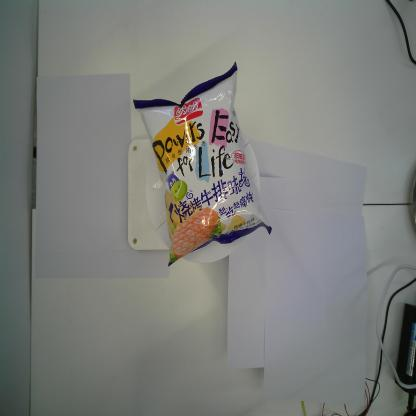Puffed Food: (133, 58, 273, 268)
